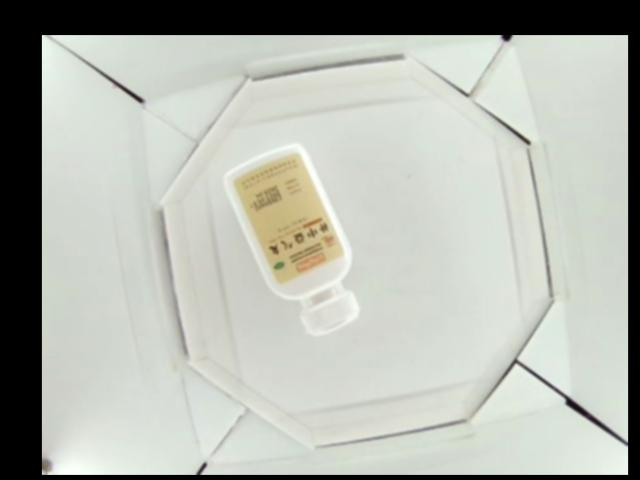Bottle: (220, 140, 362, 336)
